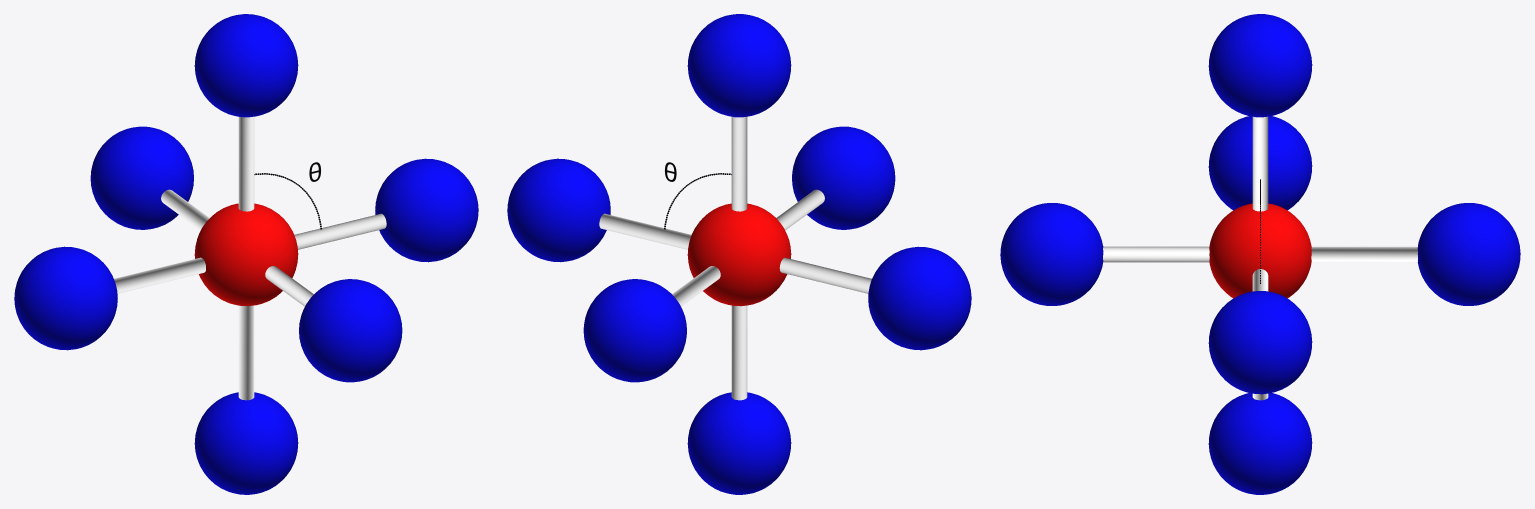
File: octahedral.glb
The picture shows the model from 3 angles, left to right: view 1: azimuth 30°, elevation 25°; view 2: azimuth 150°, elevation 25°; view 3: azimuth 270°, elevation 25°; orthographic projection.
Parts seen in each view (by area): view 1: 1 octahedral; view 2: 1 octahedral; view 3: 1 octahedral.
Part boxes in pixels (<box>): 1 octahedral: <box>14,14,478,494</box>; 1 octahedral: <box>507,14,971,494</box>; 1 octahedral: <box>1000,14,1520,494</box>.
Size of the model in its own units: 4.02 by 4.02 by 4.02.
Materials: 5 (1 with a texture image).
